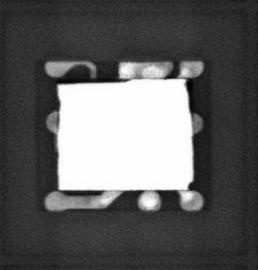DIE_BROKEN: (55, 76, 132, 86), (182, 76, 194, 117), (186, 179, 195, 192)
